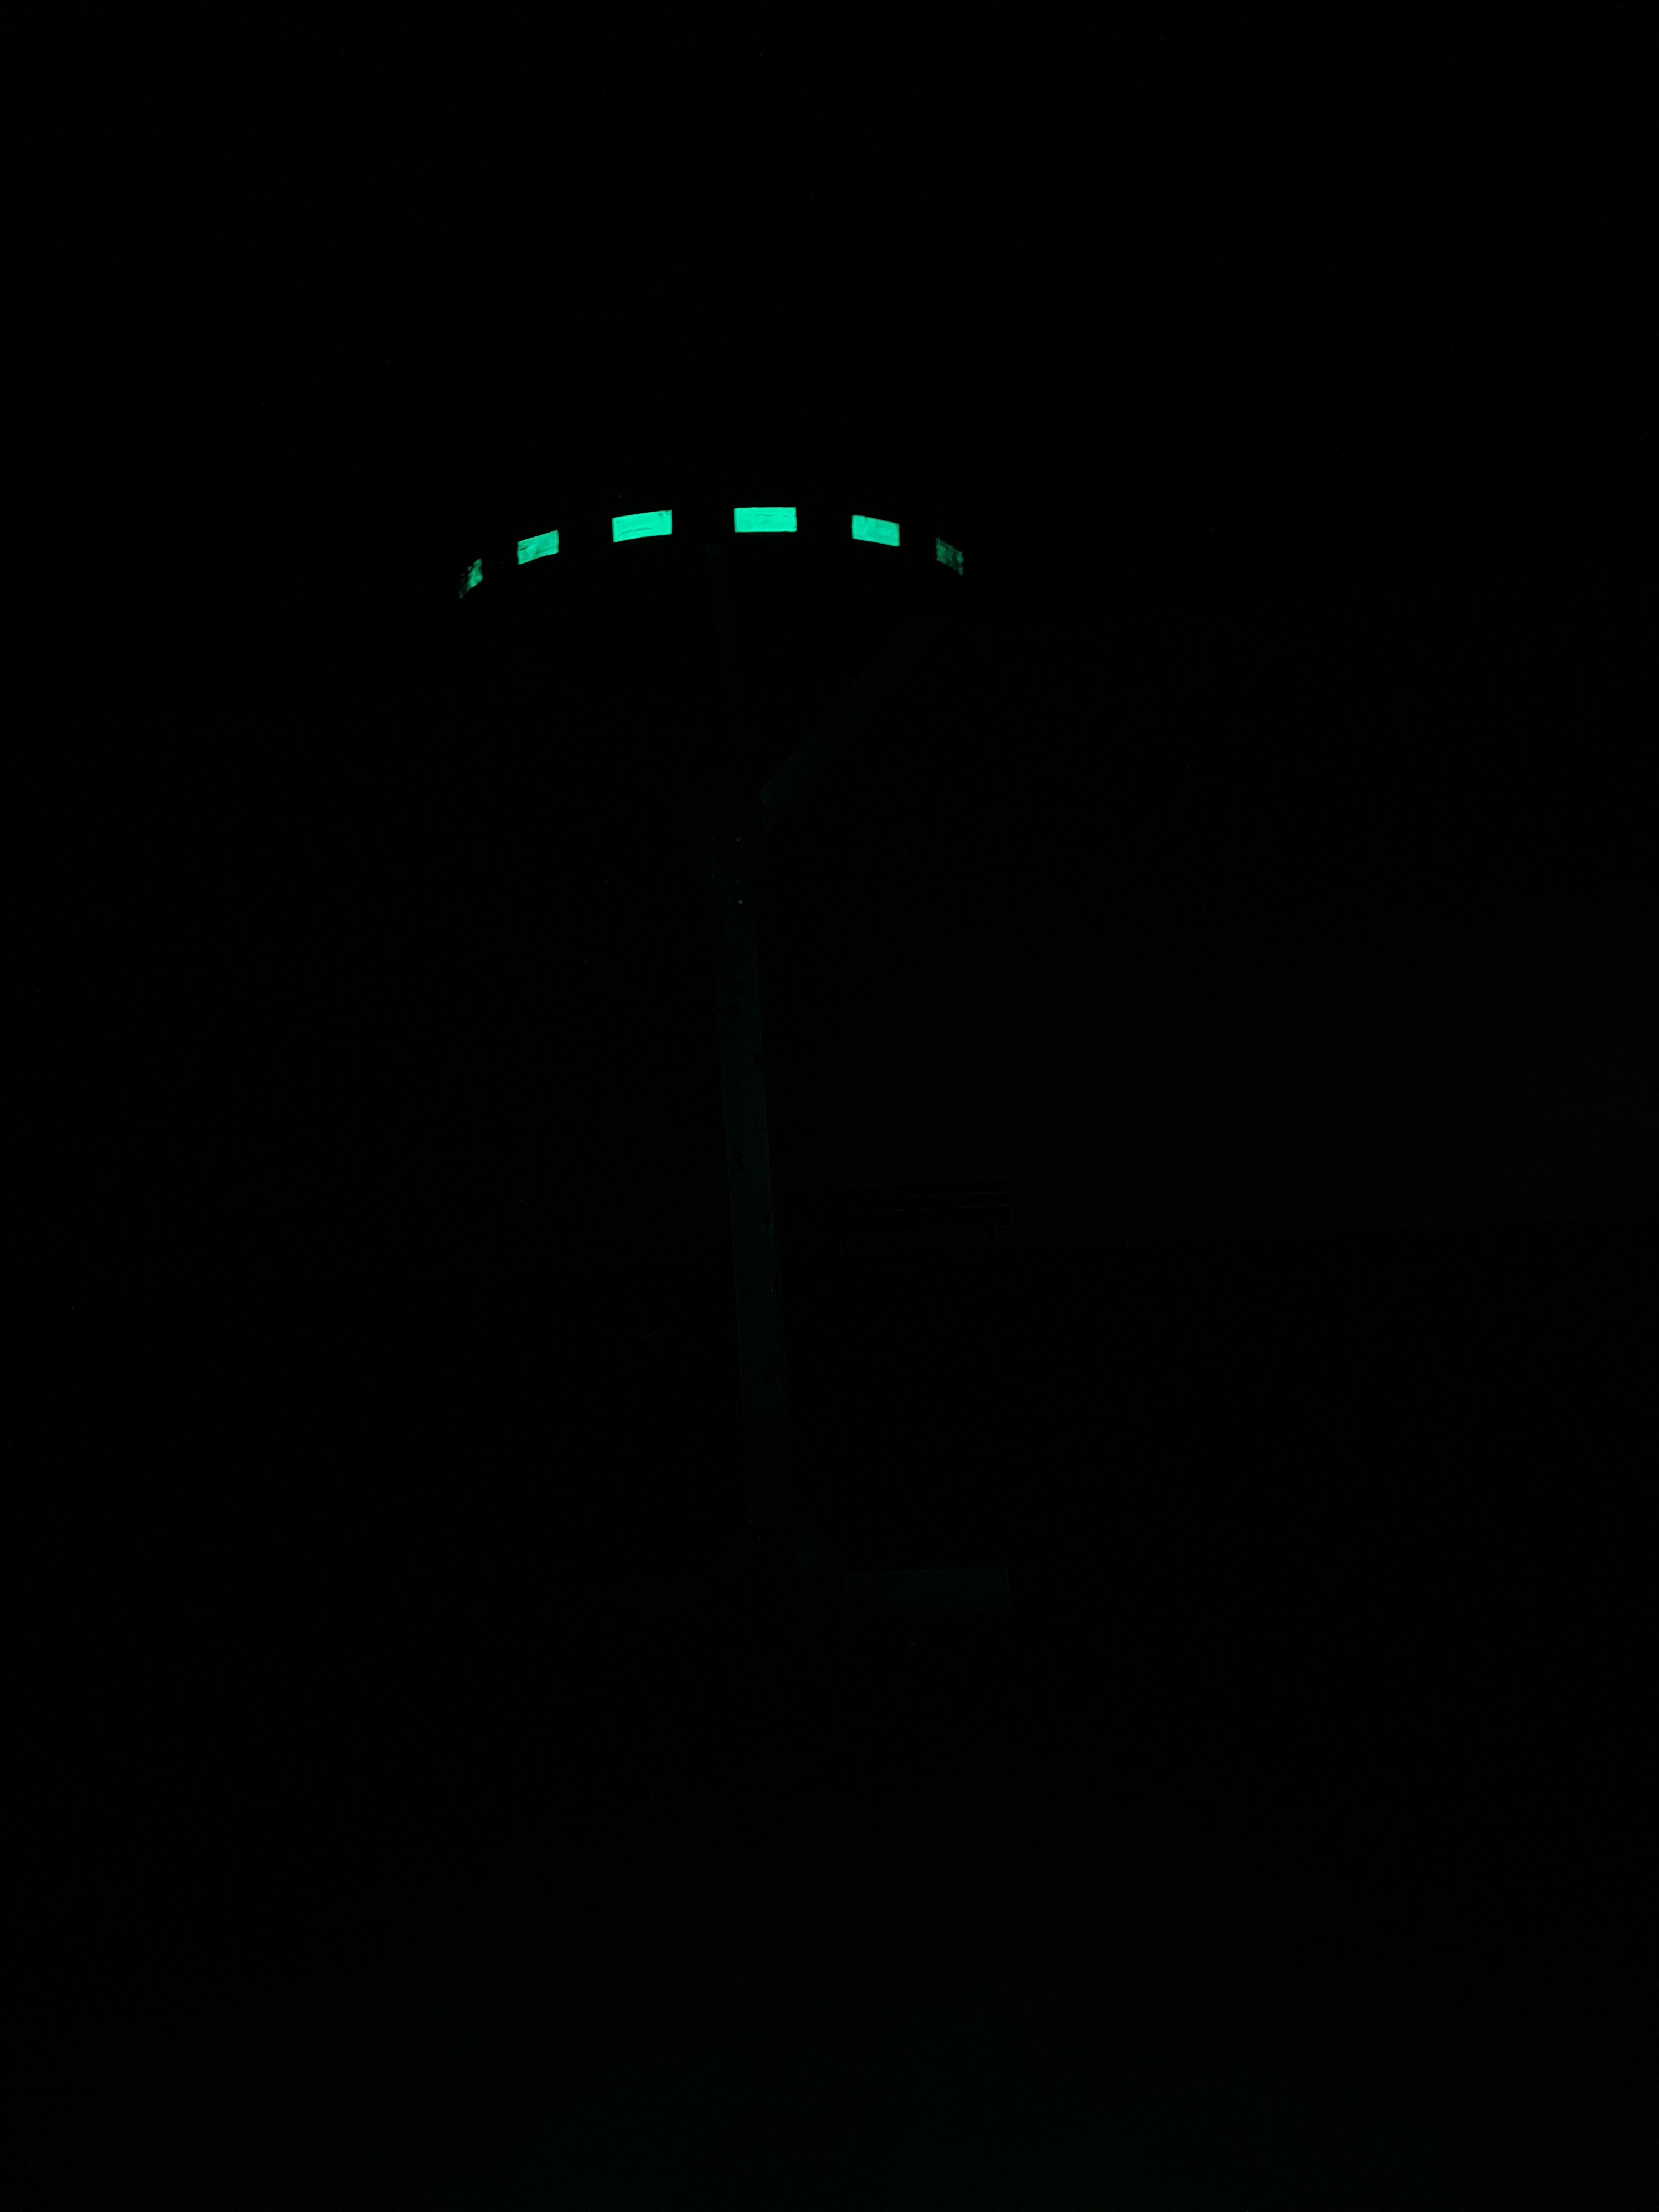hoop: (443, 493, 967, 611)
